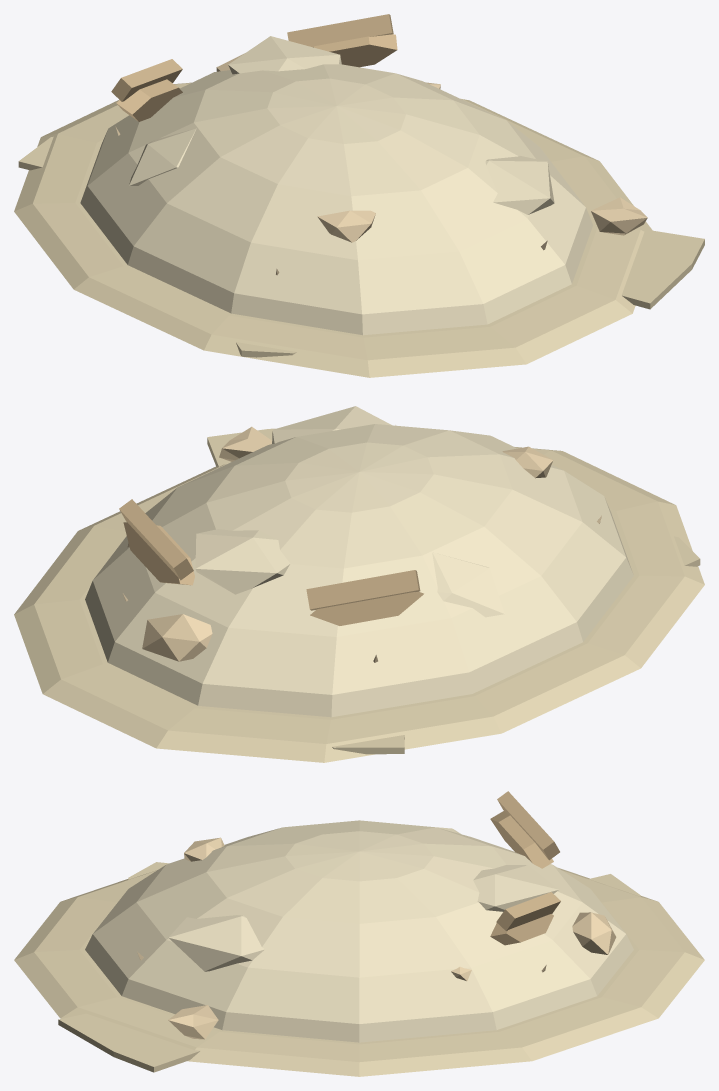
File: Dune_Seat.fbx
3 views of the same model, one above another, from view 1: azimuth 30°, elevation 25°; view 2: azimuth 150°, elevation 25°; view 3: azimuth 270°, elevation 25° (orthographic). The views are drawn at different scales.
Parts seen in each view (by area): view 1: DuneSeat_Mound_Sand, DuneSeat_MoundDark_SandDark, DuneSeat_Lids_RingShadow, DuneSeat_Chips_Sandstone; view 2: DuneSeat_Mound_Sand, DuneSeat_MoundDark_SandDark, DuneSeat_Lids_RingShadow, DuneSeat_Chips_Sandstone; view 3: DuneSeat_Mound_Sand, DuneSeat_MoundDark_SandDark, DuneSeat_Lids_RingShadow, DuneSeat_Chips_Sandstone.
Part boxes in pixels (left/top/right/bottom): DuneSeat_Mound_Sand: left=80, top=36, right=592, bottom=335; DuneSeat_MoundDark_SandDark: left=14, top=82, right=704, bottom=377; DuneSeat_Lids_RingShadow: left=111, top=14, right=397, bottom=121; DuneSeat_Chips_Sandstone: left=115, top=53, right=647, bottom=275; DuneSeat_Mound_Sand: left=85, top=406, right=633, bottom=717; DuneSeat_MoundDark_SandDark: left=14, top=428, right=704, bottom=762; DuneSeat_Lids_RingShadow: left=119, top=499, right=423, bottom=625; DuneSeat_Chips_Sandstone: left=122, top=425, right=601, bottom=662; DuneSeat_Mound_Sand: left=85, top=820, right=633, bottom=1042; DuneSeat_MoundDark_SandDark: left=14, top=862, right=704, bottom=1076; DuneSeat_Lids_RingShadow: left=490, top=791, right=560, bottom=945; DuneSeat_Chips_Sandstone: left=137, top=837, right=616, bottom=1039.
Bounding box in the file's own units: 6.32 × 1.39 × 7.9.
